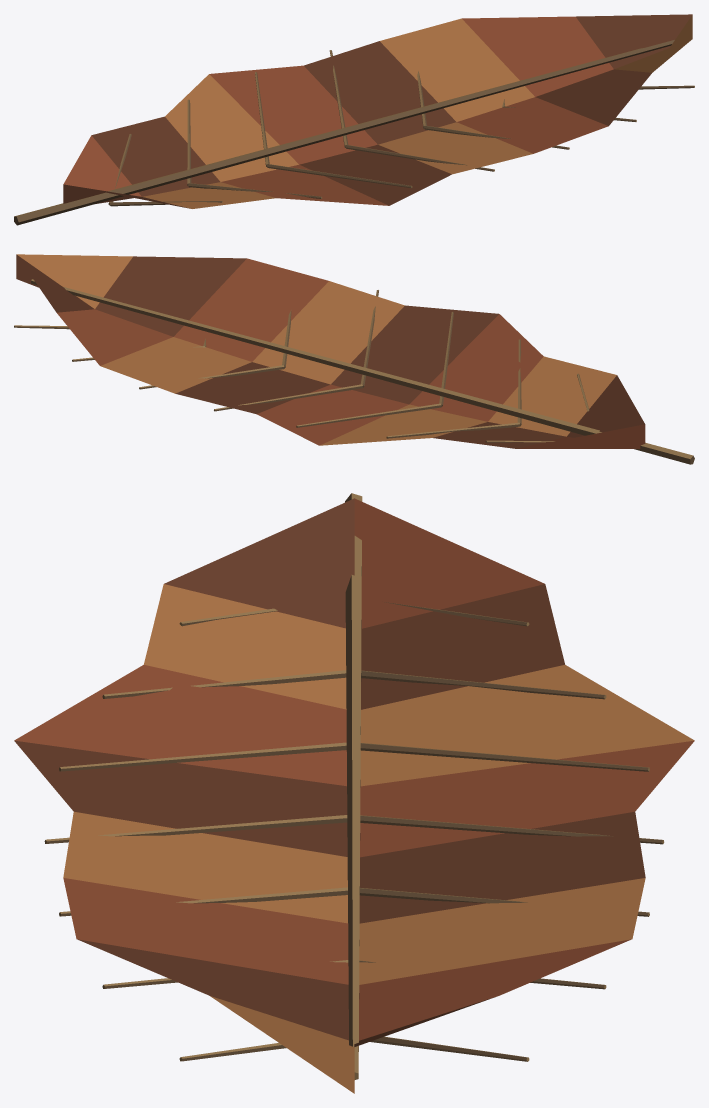
3 views of the same model, one above another, from view 1: azimuth 30°, elevation 25°; view 2: azimuth 150°, elevation 25°; view 3: azimuth 270°, elevation 25° (orthographic). The views are drawn at different scales.
Visible parts, largest first — view 1: curled-forest-leaf · evaluated preview mesh; view 2: curled-forest-leaf · evaluated preview mesh; view 3: curled-forest-leaf · evaluated preview mesh.
Part boxes in pixels (x1,y1,x2,y2): curled-forest-leaf · evaluated preview mesh: (14, 14, 694, 225); curled-forest-leaf · evaluated preview mesh: (14, 254, 694, 464); curled-forest-leaf · evaluated preview mesh: (14, 493, 694, 1093).
Bounding box in the file's own units: 4.3 × 0.3297 × 1.98.
